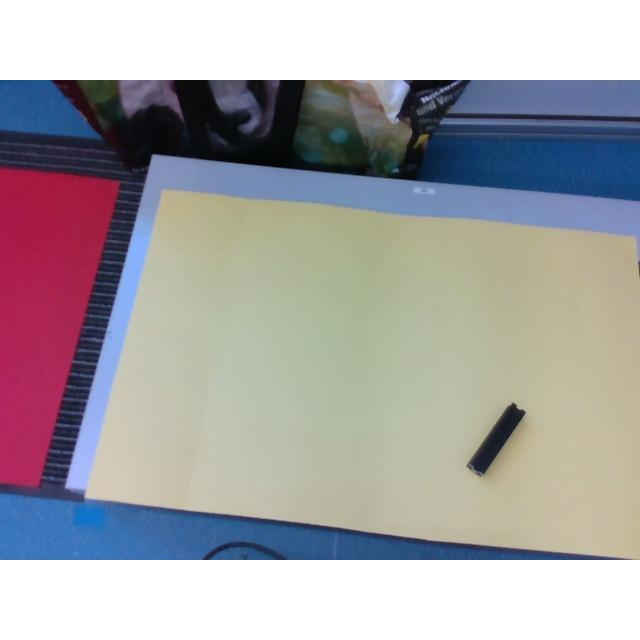F20_20_B: (466, 403, 524, 475)
